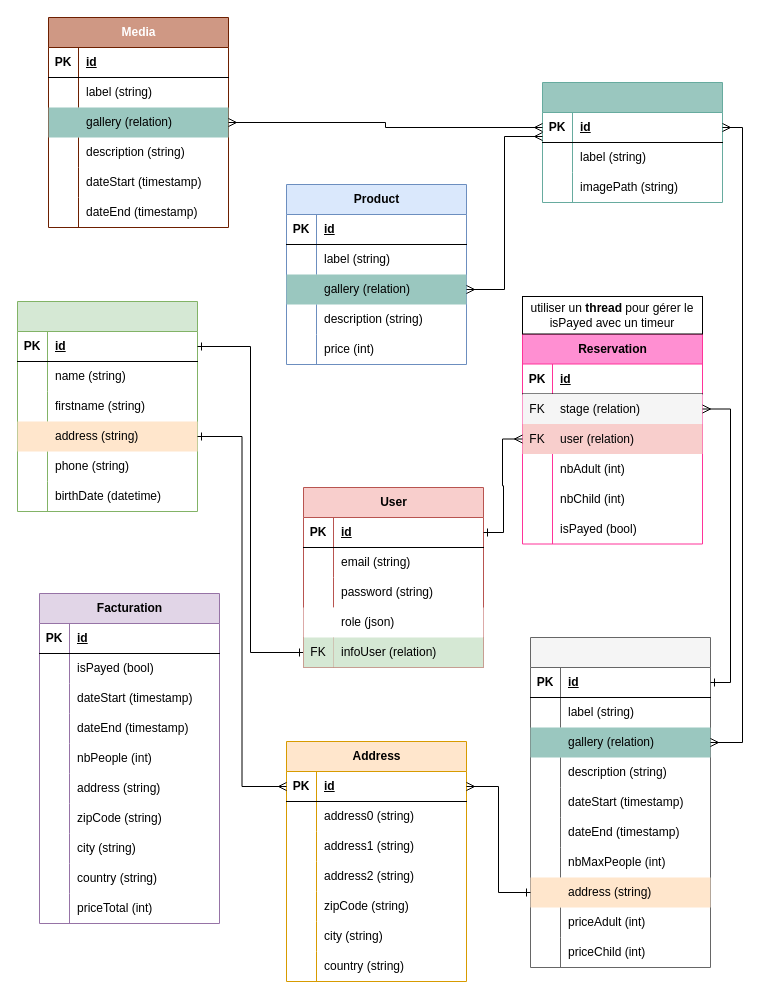
Image size: 769x999. Some labels were removed from this diagram. The shapes that lost their labels are listed below. From the top down, each one's box as (x1, y1, x2, y2) in pixels, then its label:
(542, 82, 722, 202): Gallery
(16, 300, 198, 512): InfoUser
(530, 636, 710, 968): Stage
